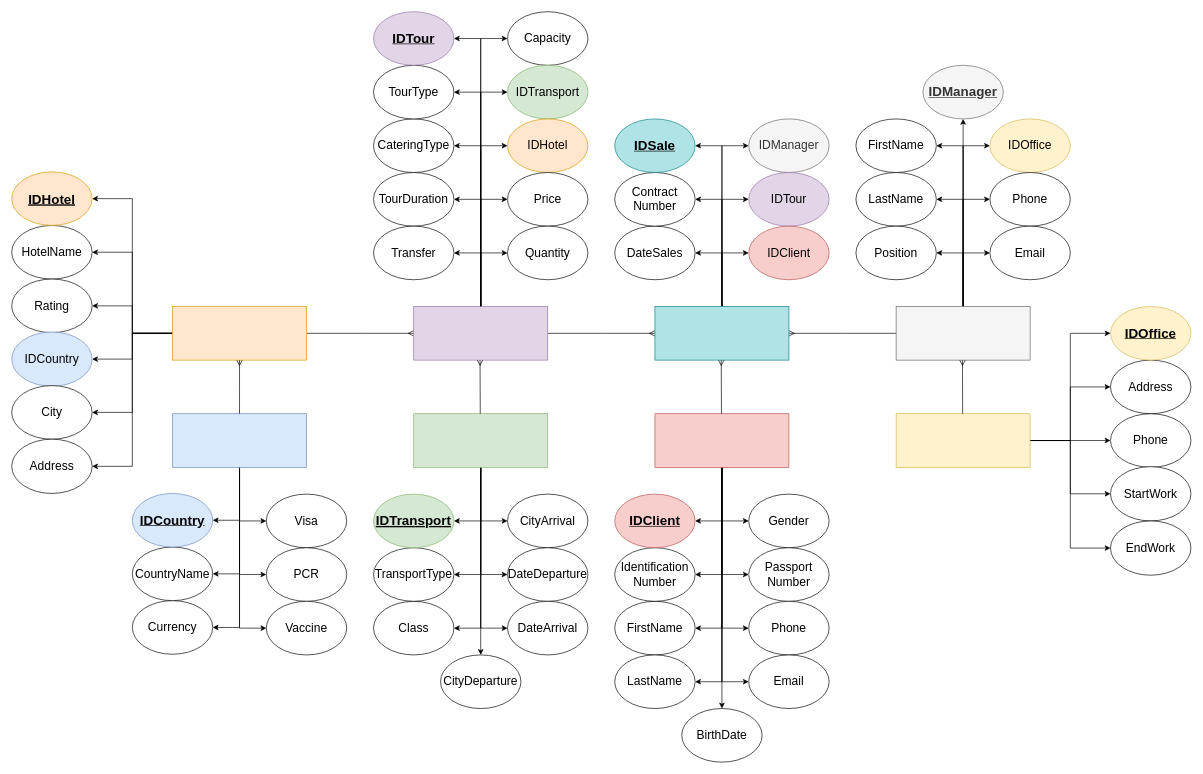
This 1203x774 diagram has some shape labels left out. Here are the shapes that lost their labels. From the top down, the centre of each, then its label:
At [239,333]: "HOTELS".
At [480,333]: "TOURS".
At [721,333]: "SALES".
At [962,333]: "MANAGERS".
At [239,440]: "COUNTRIES".
At [480,440]: "TRANSPORT".
At [721,440]: "CLIENTS".
At [962,440]: "OFFICES".
